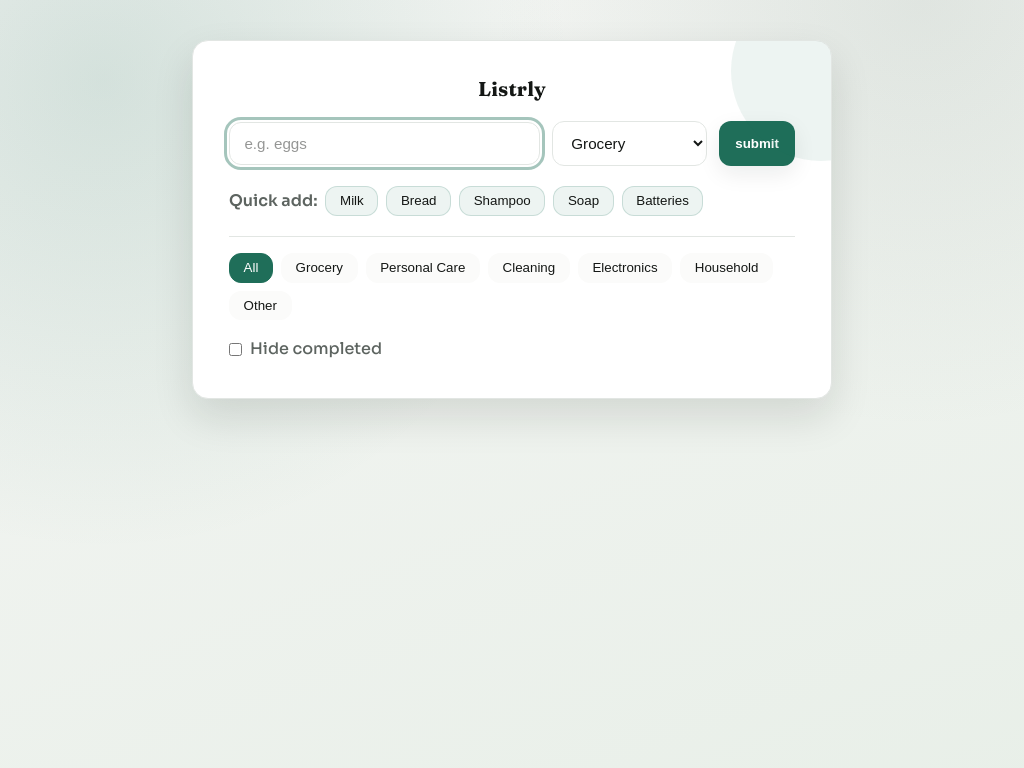
Test: FastList interactions › trims input and assigns category
This screenshot has width=1024, height=768.
Type "  Shampoo  " into the field with placeholder "e.g. eggs" at (384, 144), box 229,122 -> 540,165
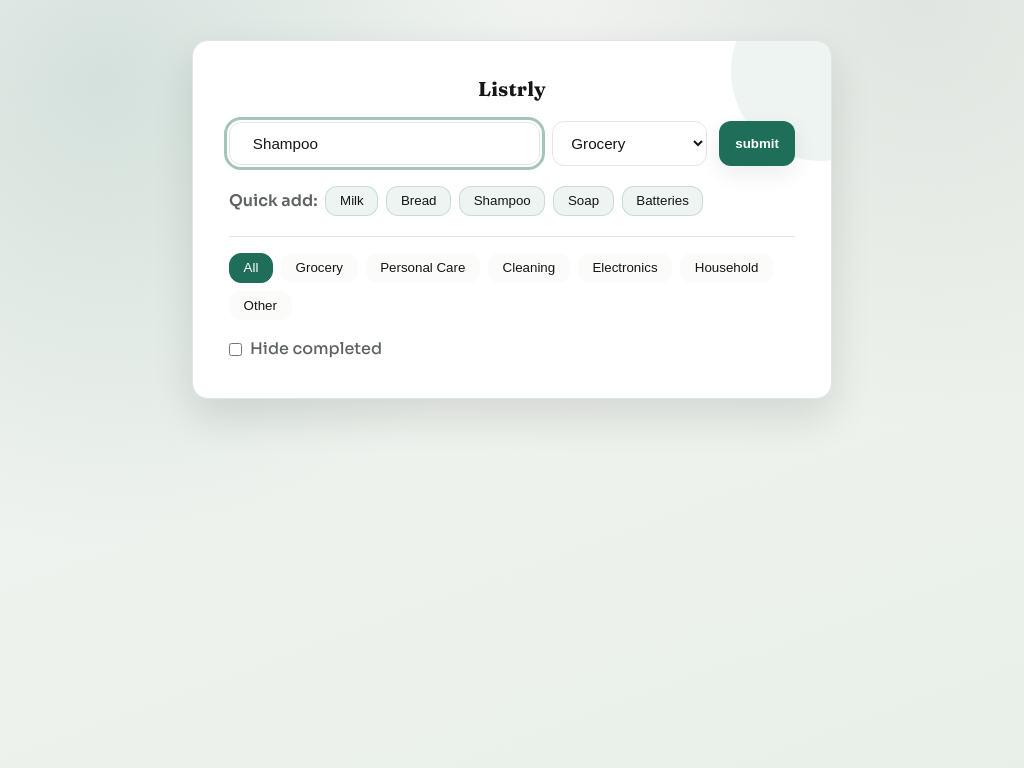
Select "Personal Care" in the dropdown named "Item category" at (630, 144), box 552,121 -> 707,166
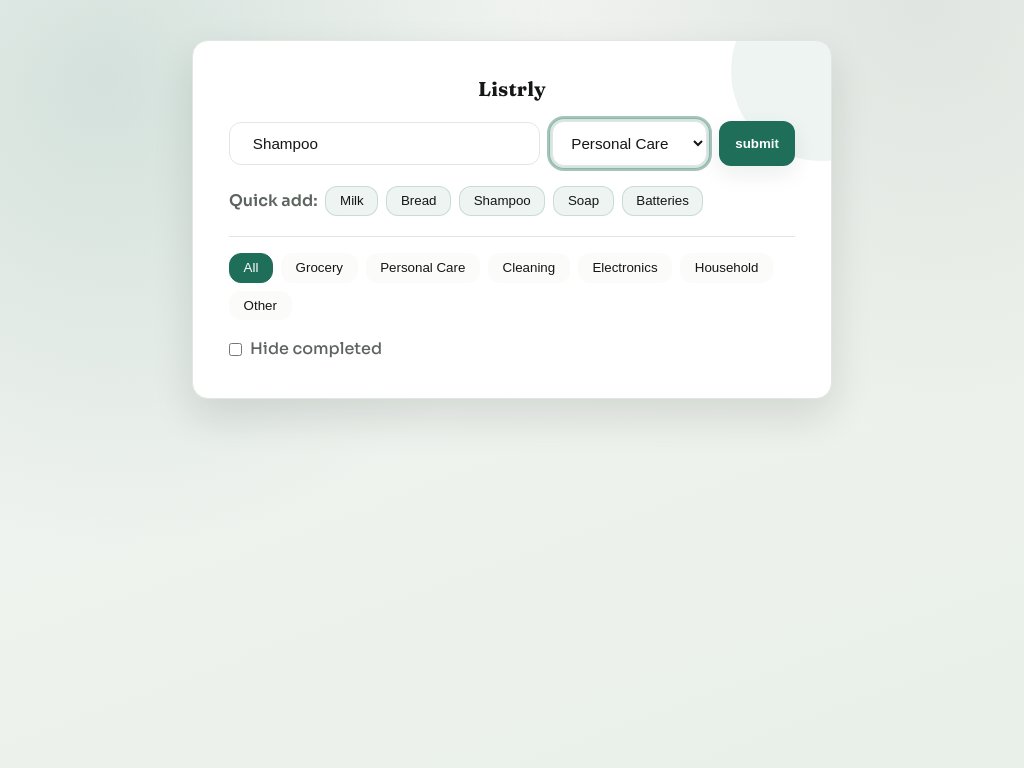
Click the button "submit" at (757, 144), box 719,121 -> 795,166
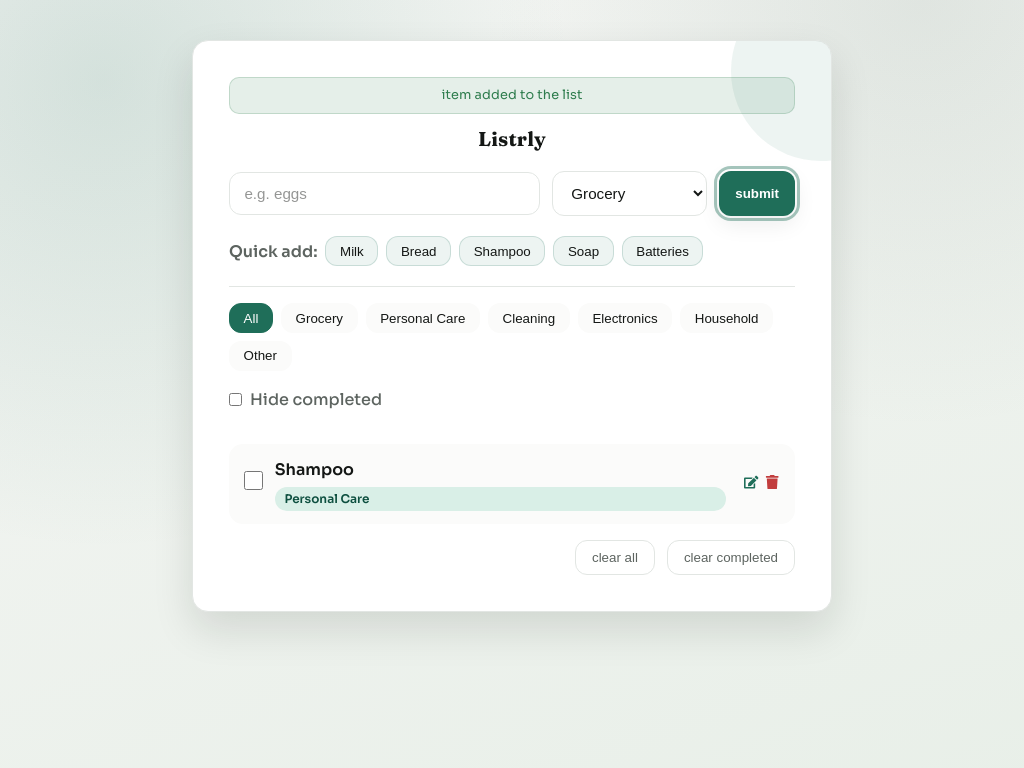
Now the element showing "Shampoo Personal Care" is shown, box 229,444 -> 795,524
Now the text "Personal Care" is shown, box 275,487 -> 726,511
